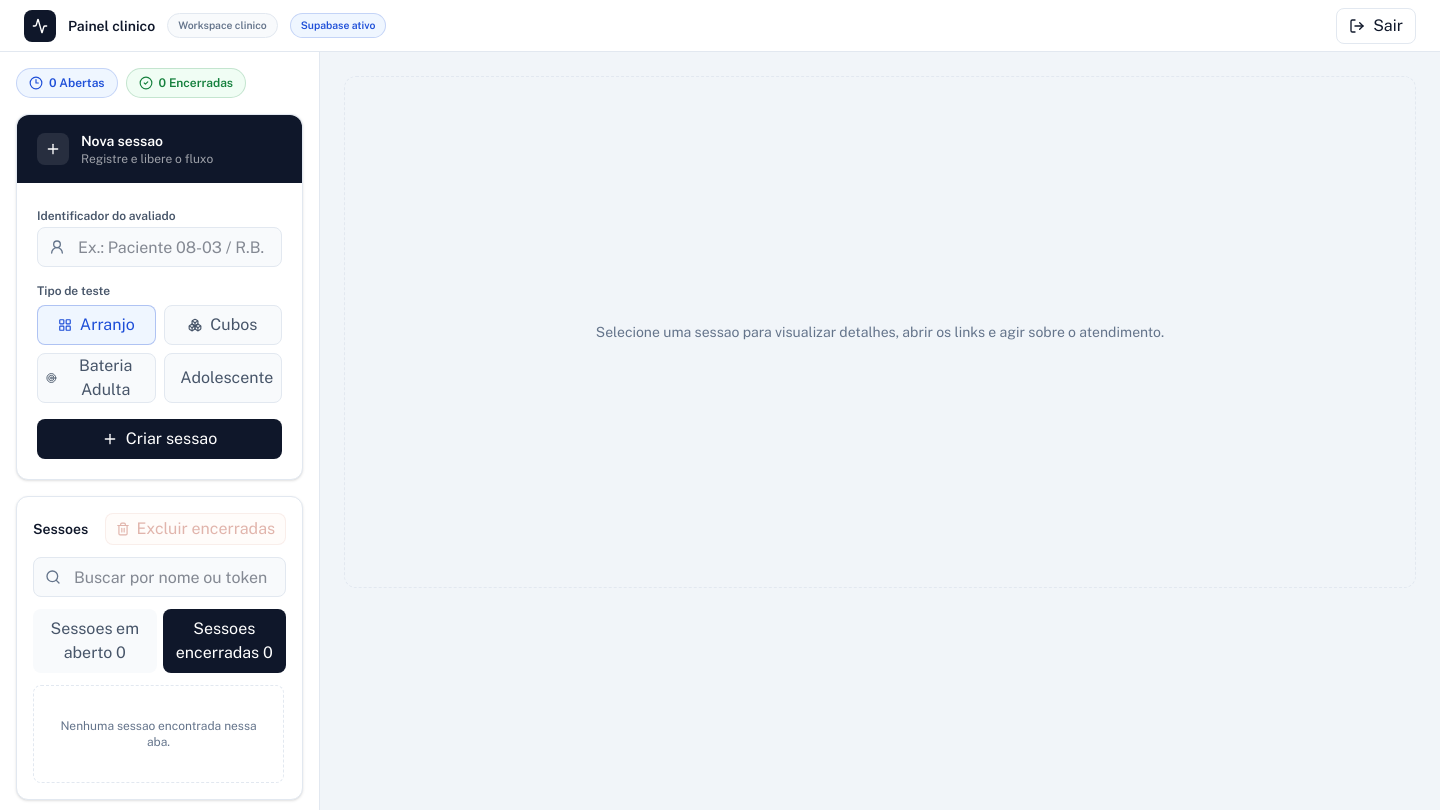
Scenario: AdminDashboard › shows a friendly error when session creation returns an empty response body
The image size is (1440, 810).
Type "Rangel" into the field with placeholder "Ex.: Paciente 08-03 / R.B." at coordinates (160, 247), box left=37, top=227, right=282, bottom=267
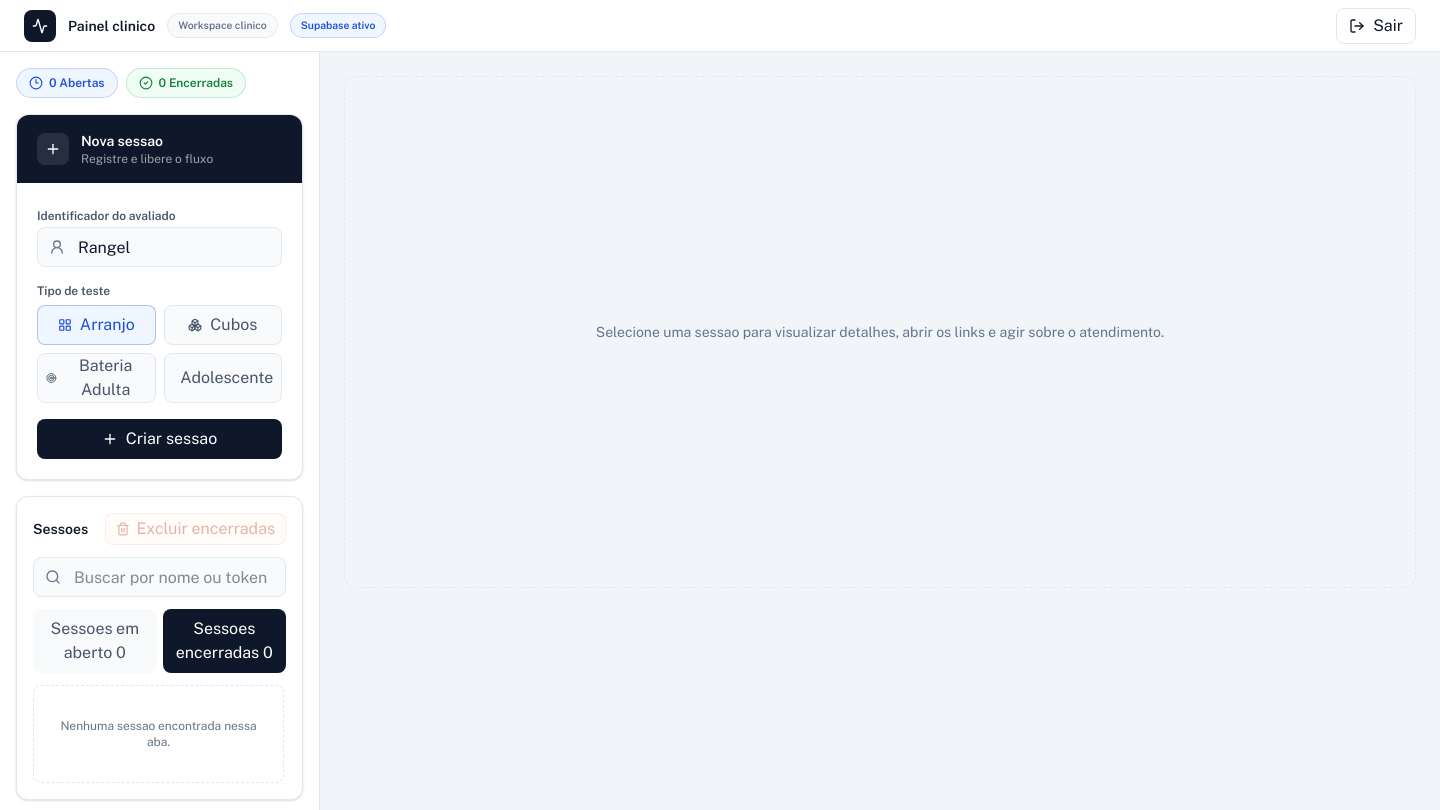
Click the button "Criar sessao" at coordinates (160, 439), box left=37, top=419, right=282, bottom=459
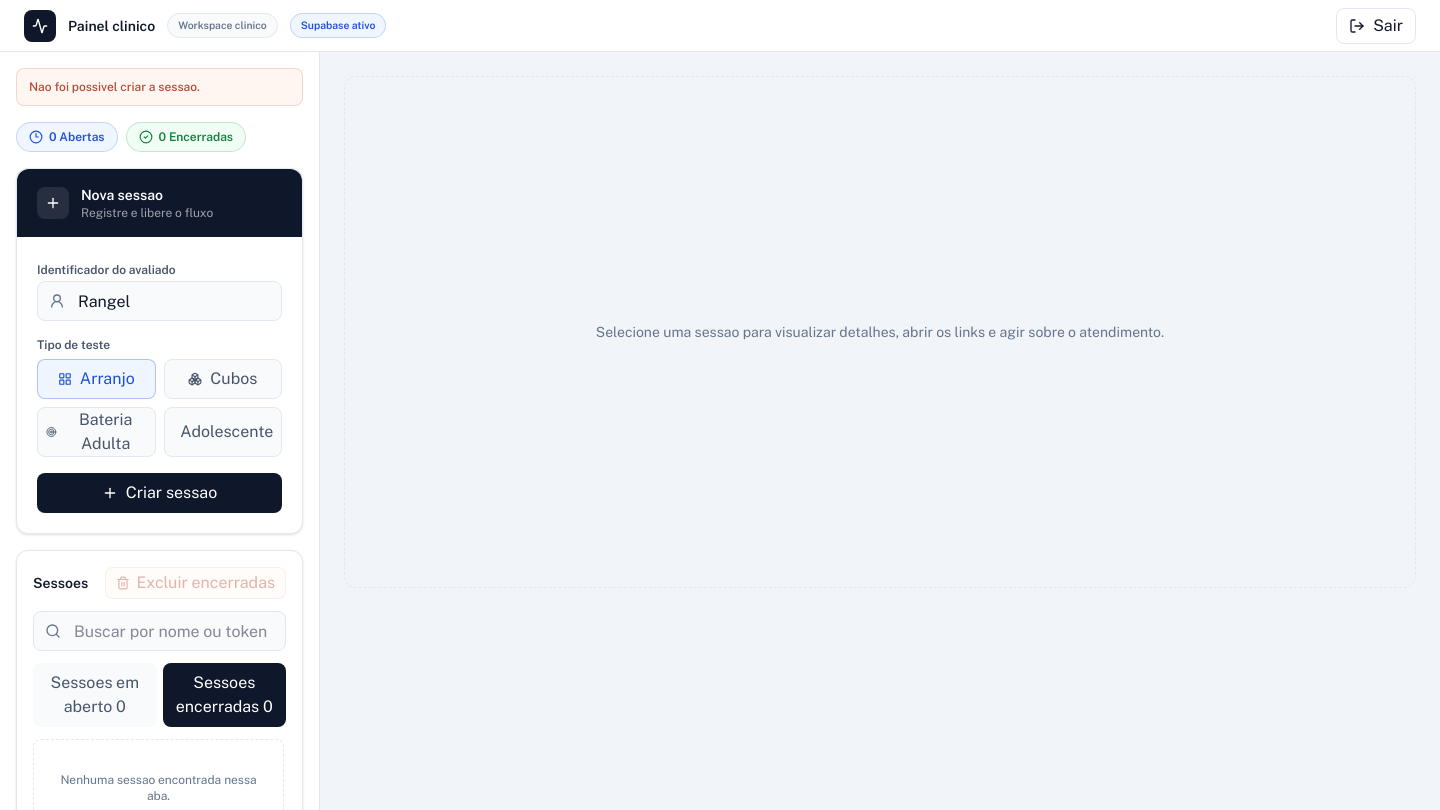
expect the text "Nao foi possivel criar a sessao." is shown: met, box left=16, top=68, right=303, bottom=106
